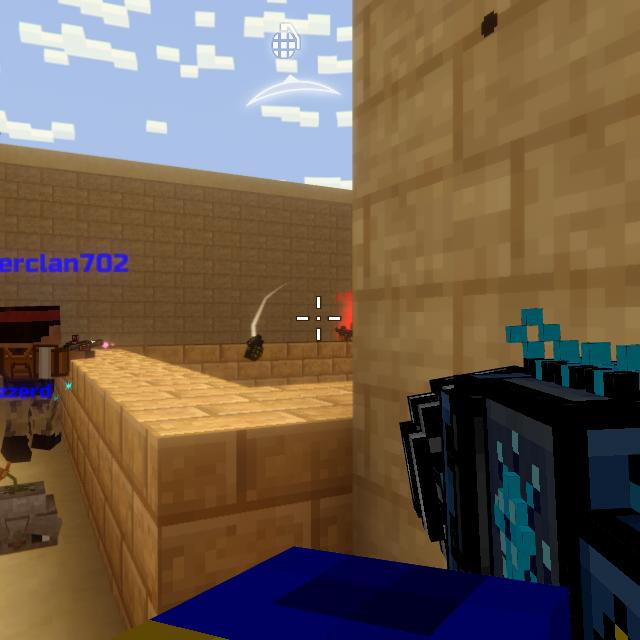Enemy: (338, 320, 353, 341)
